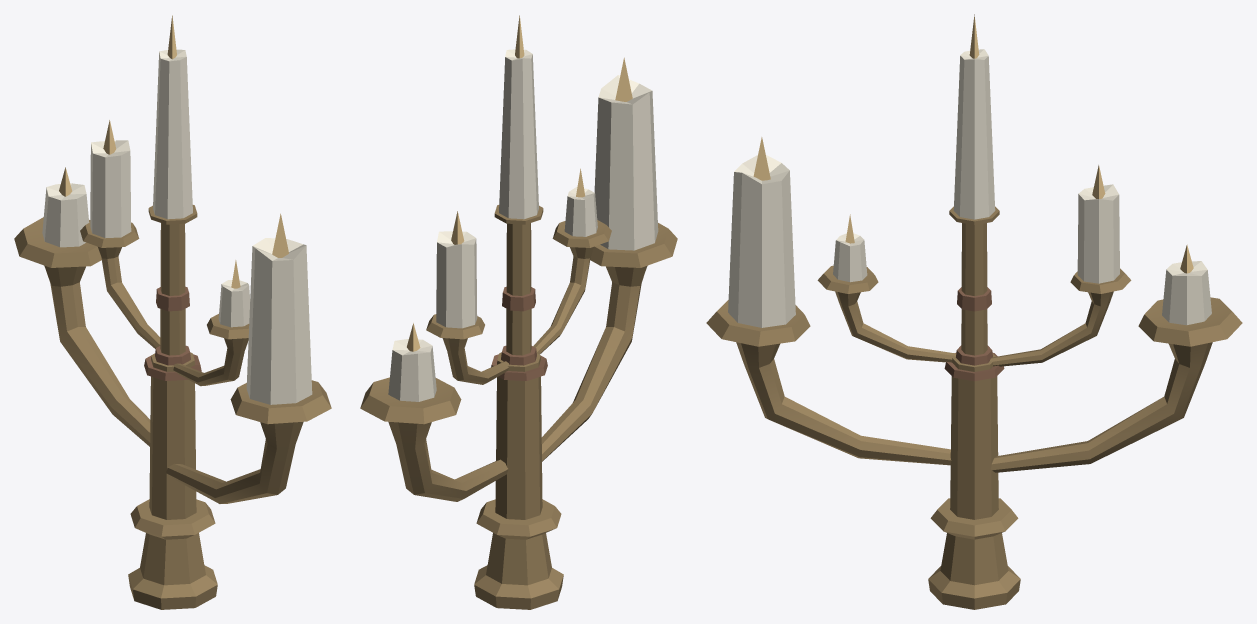
Rendered from Chandelier_2.fbx.
3 views of the same model, side by side, from view 1: azimuth 30°, elevation 25°; view 2: azimuth 150°, elevation 25°; view 3: azimuth 270°, elevation 25° (orthographic).
Visible parts, largest first — view 1: pCylinder173; view 2: pCylinder173; view 3: pCylinder173.
Boxes of the visible parts, <box> form: pCylinder173: <box>14,15,331,609</box>; pCylinder173: <box>360,15,677,609</box>; pCylinder173: <box>706,14,1242,609</box>.
Size of the model in its own units: 16.34 by 99.39 by 83.78.
